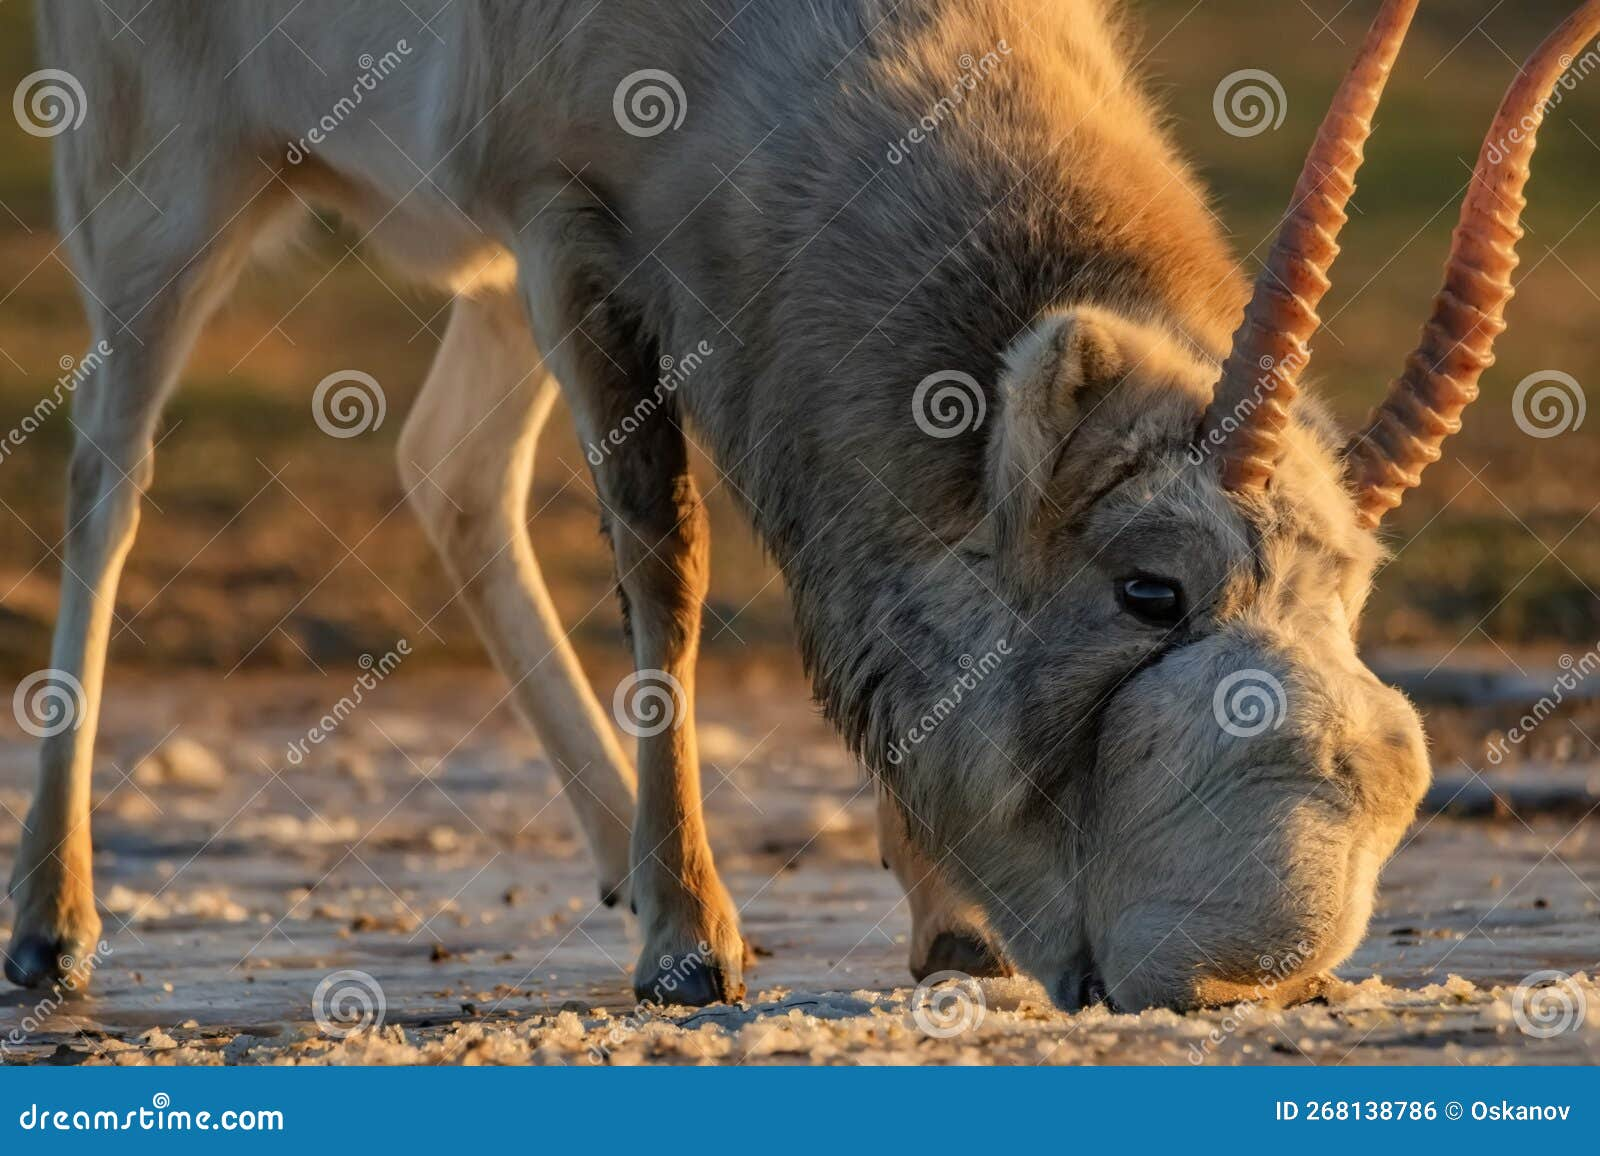saiga: (22, 4, 1600, 1019)
